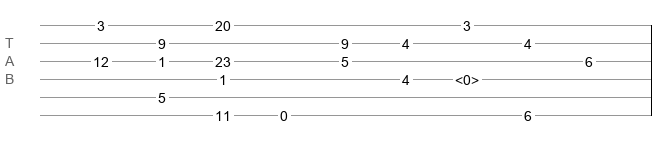0: (280, 108, 288, 118)
1: (158, 54, 166, 64), (219, 72, 227, 82)
11: (215, 108, 231, 118)
12: (93, 54, 109, 64)
20: (215, 18, 231, 28)
23: (215, 54, 231, 64)
3: (97, 18, 105, 28), (463, 18, 471, 28)
4: (402, 72, 410, 82), (402, 36, 410, 46), (524, 36, 532, 46)
5: (158, 90, 166, 100), (341, 54, 349, 64)
6: (524, 108, 532, 118), (585, 54, 593, 64)
9: (158, 36, 166, 46), (341, 36, 349, 46)
harmonic: (455, 72, 479, 82)
